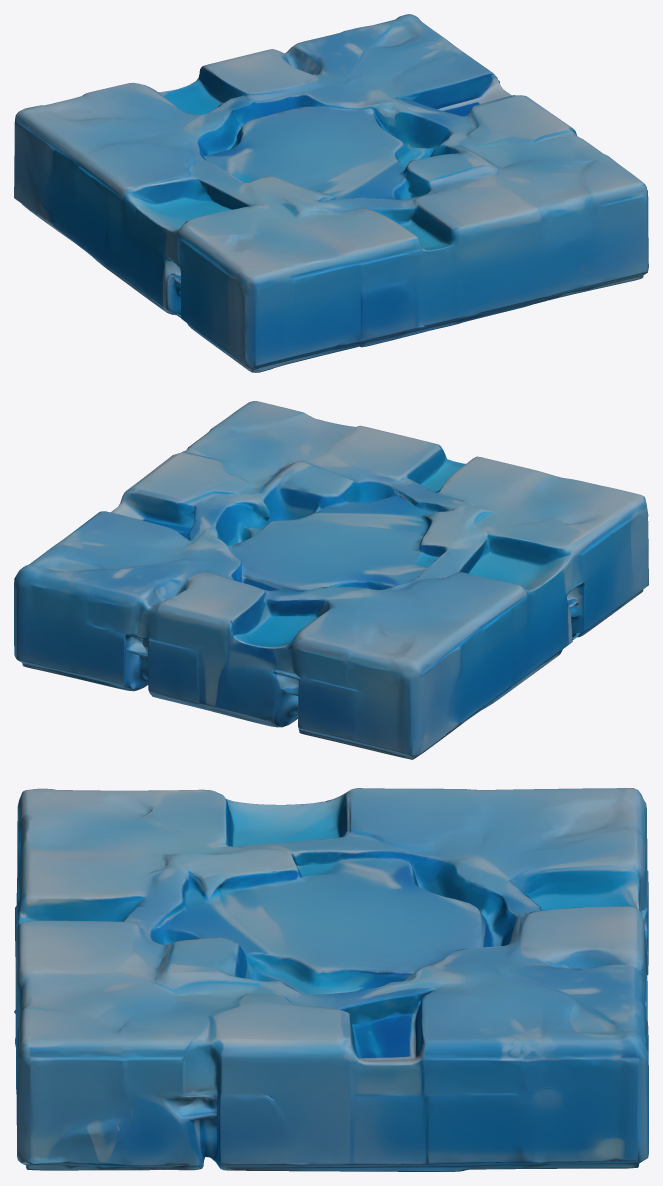
The picture shows the model from 3 angles, top to bottom: view 1: azimuth 30°, elevation 25°; view 2: azimuth 150°, elevation 25°; view 3: azimuth 270°, elevation 25°; orthographic projection. The views are drawn at different scales.
Visible parts, largest first — view 1: tripo_node_82eb6047-f8d0-426e-80d7-5fc4a77d79ea; view 2: tripo_node_82eb6047-f8d0-426e-80d7-5fc4a77d79ea; view 3: tripo_node_82eb6047-f8d0-426e-80d7-5fc4a77d79ea.
Boxes of the visible parts, left/top/right/bottom form: tripo_node_82eb6047-f8d0-426e-80d7-5fc4a77d79ea: left=14, top=14, right=648, bottom=372; tripo_node_82eb6047-f8d0-426e-80d7-5fc4a77d79ea: left=14, top=401, right=648, bottom=759; tripo_node_82eb6047-f8d0-426e-80d7-5fc4a77d79ea: left=14, top=788, right=648, bottom=1171.
Bounding box in the file's own units: 0.9894 × 0.2819 × 1.
1 material, 1 textured.
